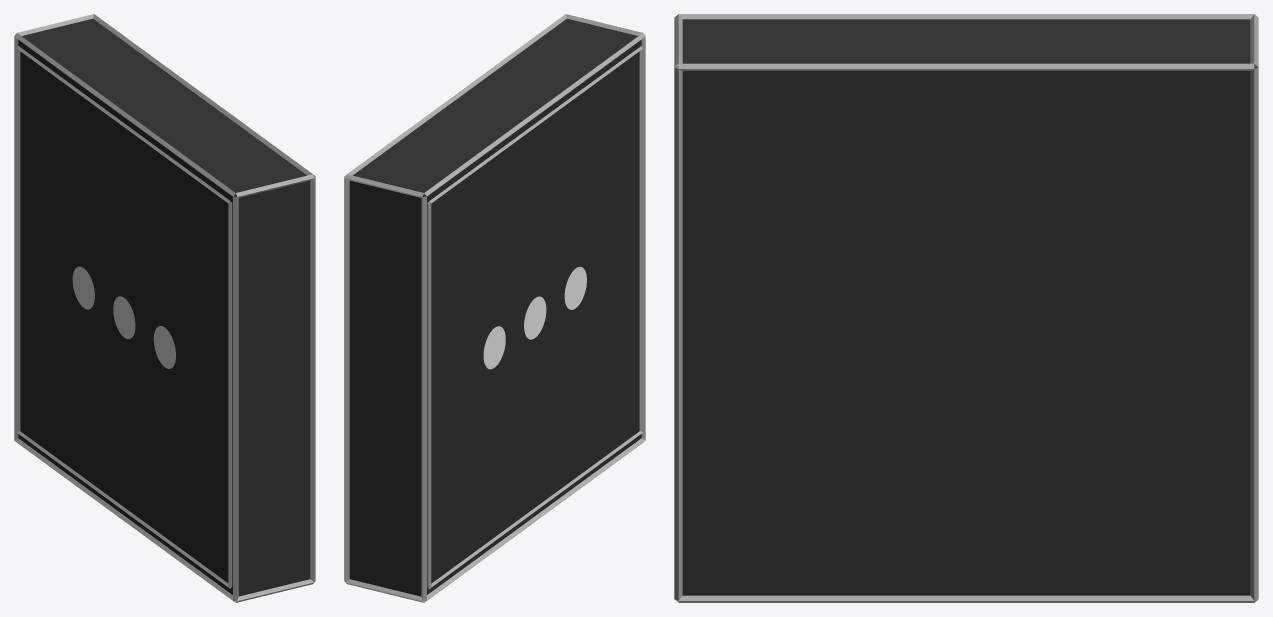
The model's file is Menu.FBX.
The picture shows the model from 3 angles, left to right: view 1: azimuth 30°, elevation 25°; view 2: azimuth 150°, elevation 25°; view 3: azimuth 270°, elevation 25°; orthographic projection. The views are drawn at different scales.
Parts seen in each view (by area): view 1: Right, Left, Mid, Plane012, Plane001; view 2: Left, Right, Mid, Plane012, Plane001; view 3: Right, Left, Mid.
Boxes of the visible parts, <box> form: Right: <box>159,121,315,602</box>; Left: <box>14,14,168,494</box>; Mid: <box>88,68,241,548</box>; Plane012: <box>16,46,232,588</box>; Plane001: <box>72,266,175,368</box>; Left: <box>344,120,500,602</box>; Right: <box>494,14,645,494</box>; Mid: <box>421,66,573,546</box>; Plane012: <box>427,46,642,588</box>; Plane001: <box>483,266,586,369</box>; Right: <box>674,14,873,602</box>; Left: <box>1059,14,1258,602</box>; Mid: <box>866,14,1061,602</box>.
Size of the model in its own units: 0.2167 by 1.01 by 0.9953.
Materials: 3 (1 with a texture image).
